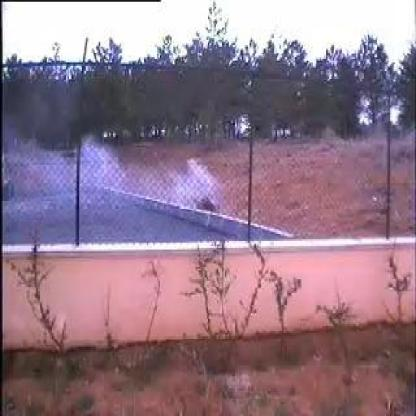-: (48, 132, 222, 246)
